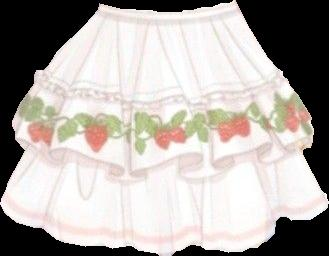Hemline: (0, 197, 328, 255), (9, 122, 313, 183)
Waistline: (95, 7, 241, 23), (98, 0, 236, 12)
